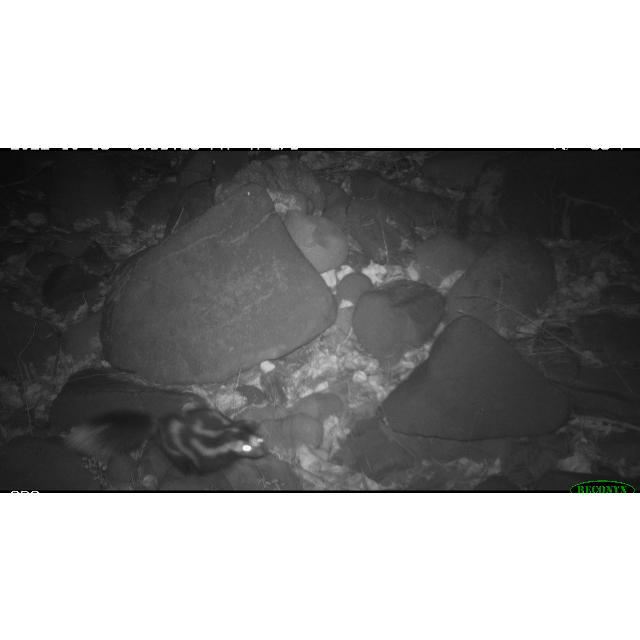animals: (61, 402, 269, 478)
